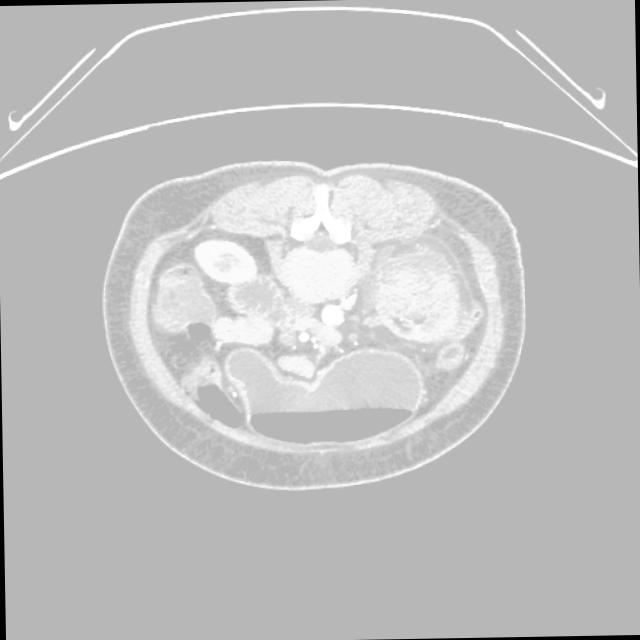TUMOR: (91, 280, 532, 467)
